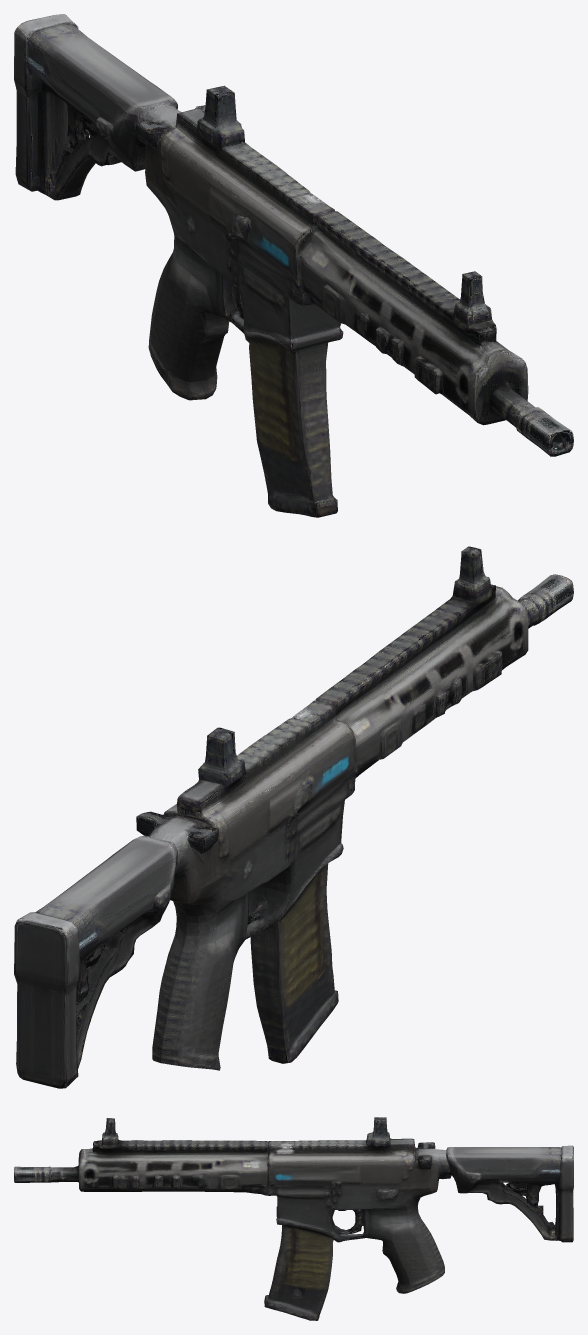
Rendered from smg.glb.
3 views of the same model, one above another, from view 1: azimuth 30°, elevation 25°; view 2: azimuth 150°, elevation 25°; view 3: azimuth 270°, elevation 25° (orthographic). The views are drawn at different scales.
Parts seen in each view (by area): view 1: world; view 2: world; view 3: world.
Boxes of the visible parts, x1,y1,x2,y2 form: world: [14, 14, 573, 517]; world: [14, 546, 573, 1088]; world: [14, 1117, 573, 1320].
Size of the model in its own units: 0.0867 by 0.3947 by 1.
1 material, 1 textured.
